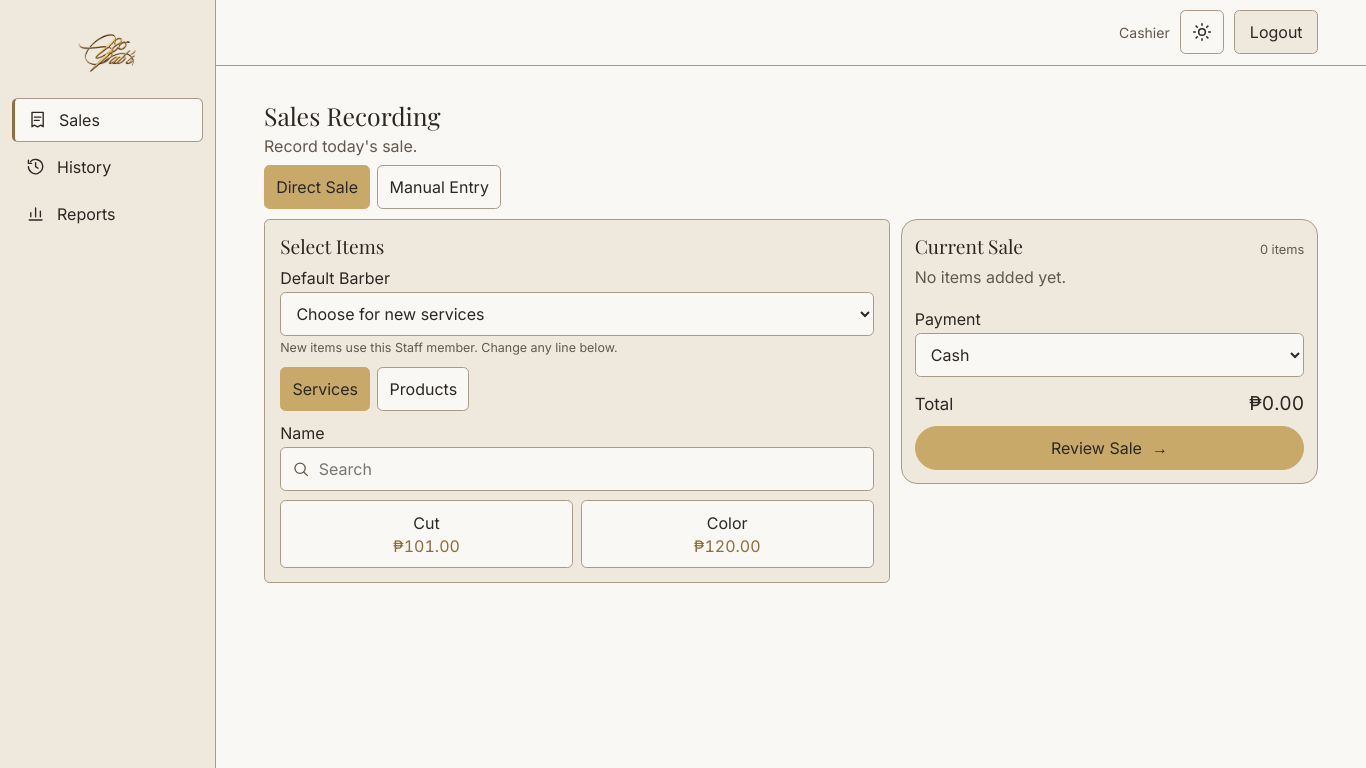
it: reserves Direct payload and key before POST, then requires physical-reference acknowledgment
Check: the heading "Sales Recording" is shown, box [264,99,440,132]
Check: the text "No items added yet." is shown, box [915,267,1066,287]
Click the button "Products" at (423, 389), box [377,367,469,411]
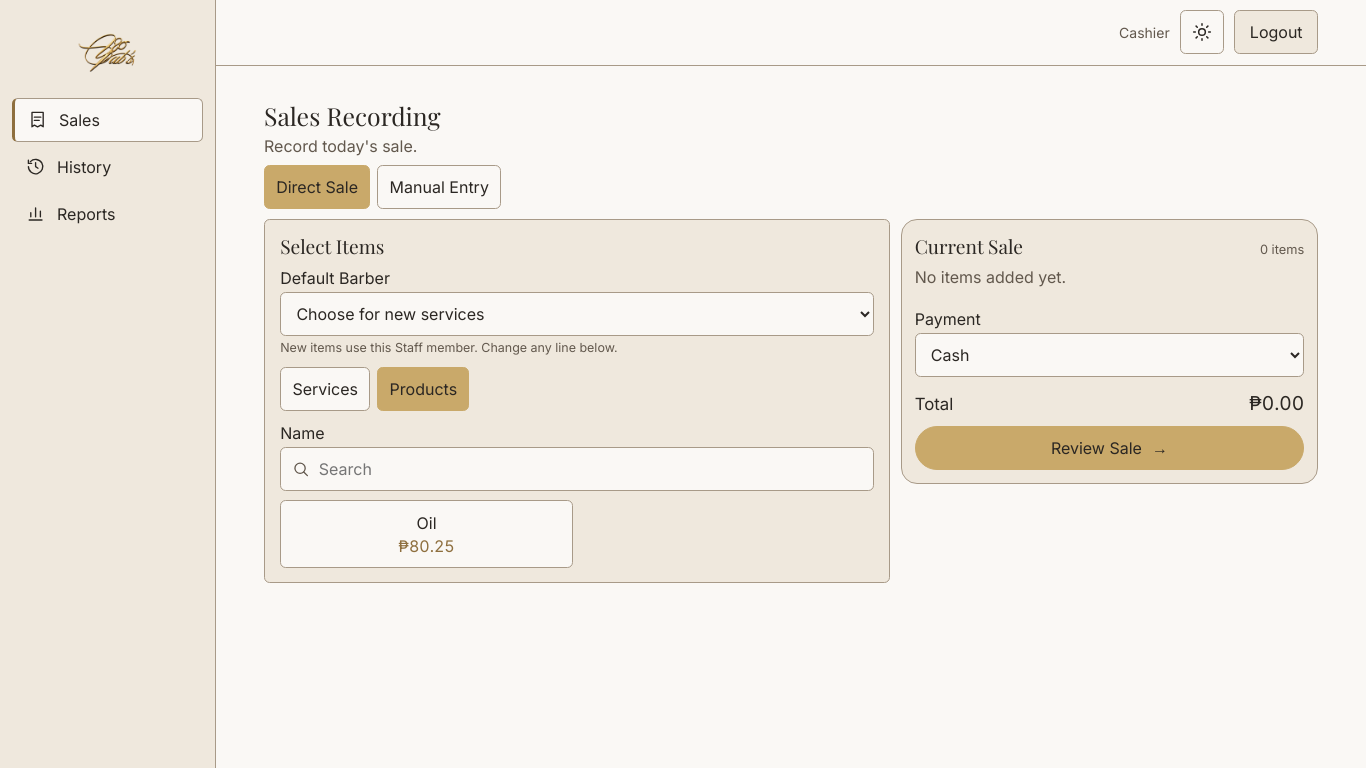
Click the button "Oil ₱80.25" at (427, 534), box [280,500,573,568]
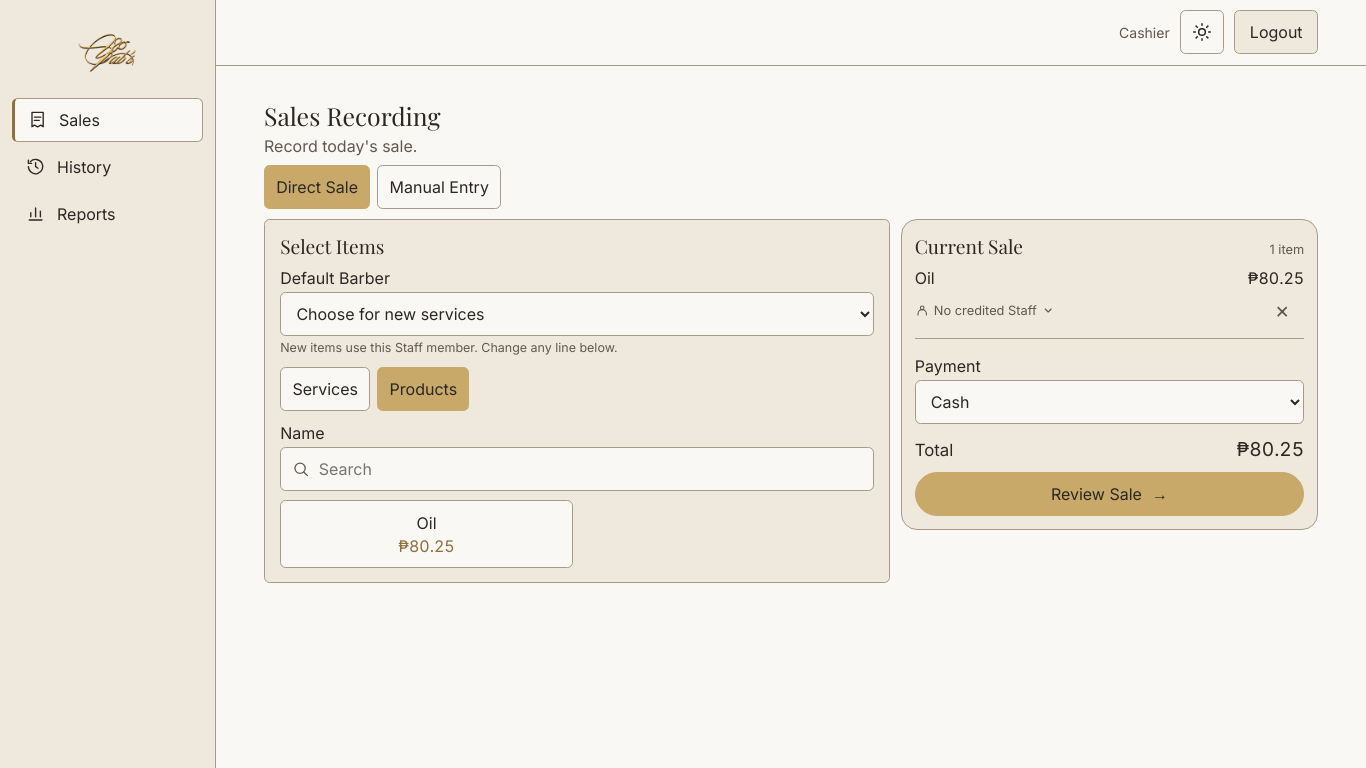
Click the button "Review Sale →" at (1109, 494), box [915,472,1304,516]
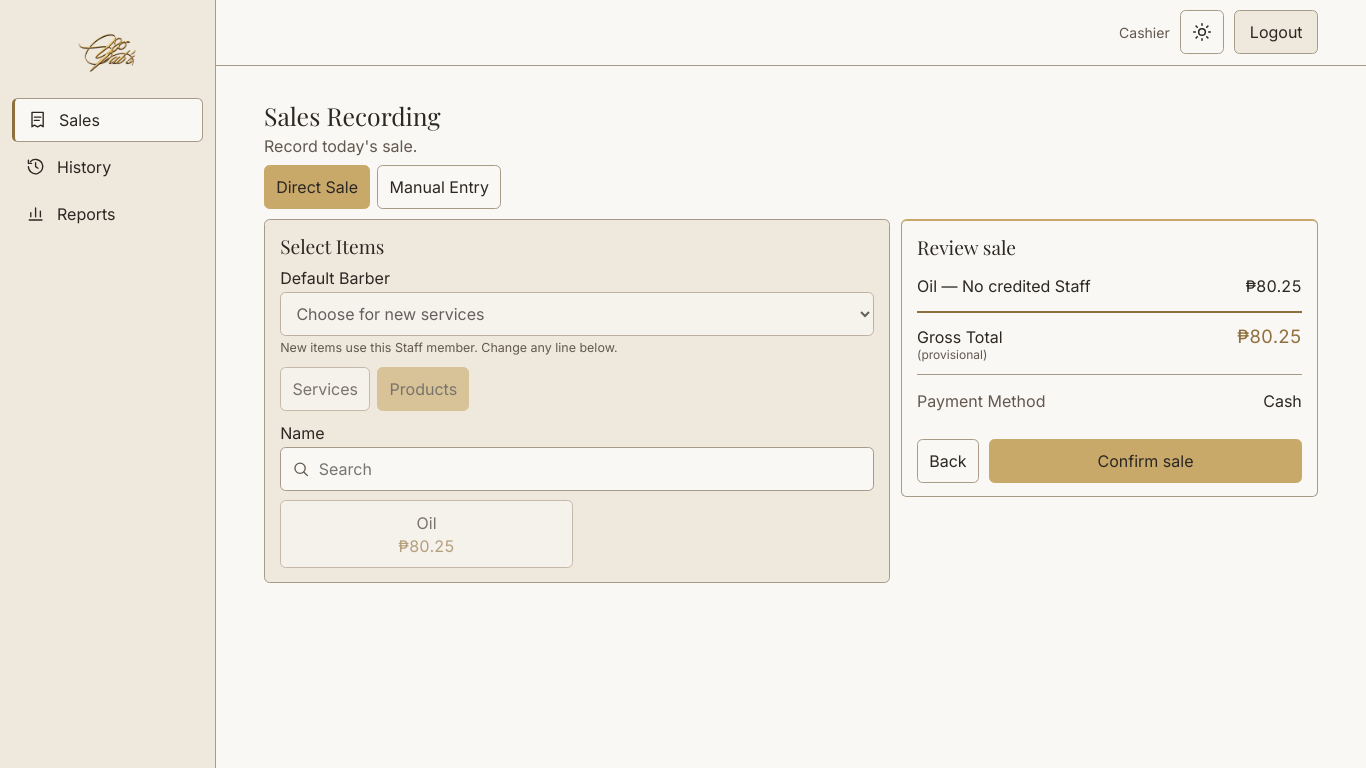
Click the button "Confirm sale" at (1146, 461), box [989,439,1302,483]
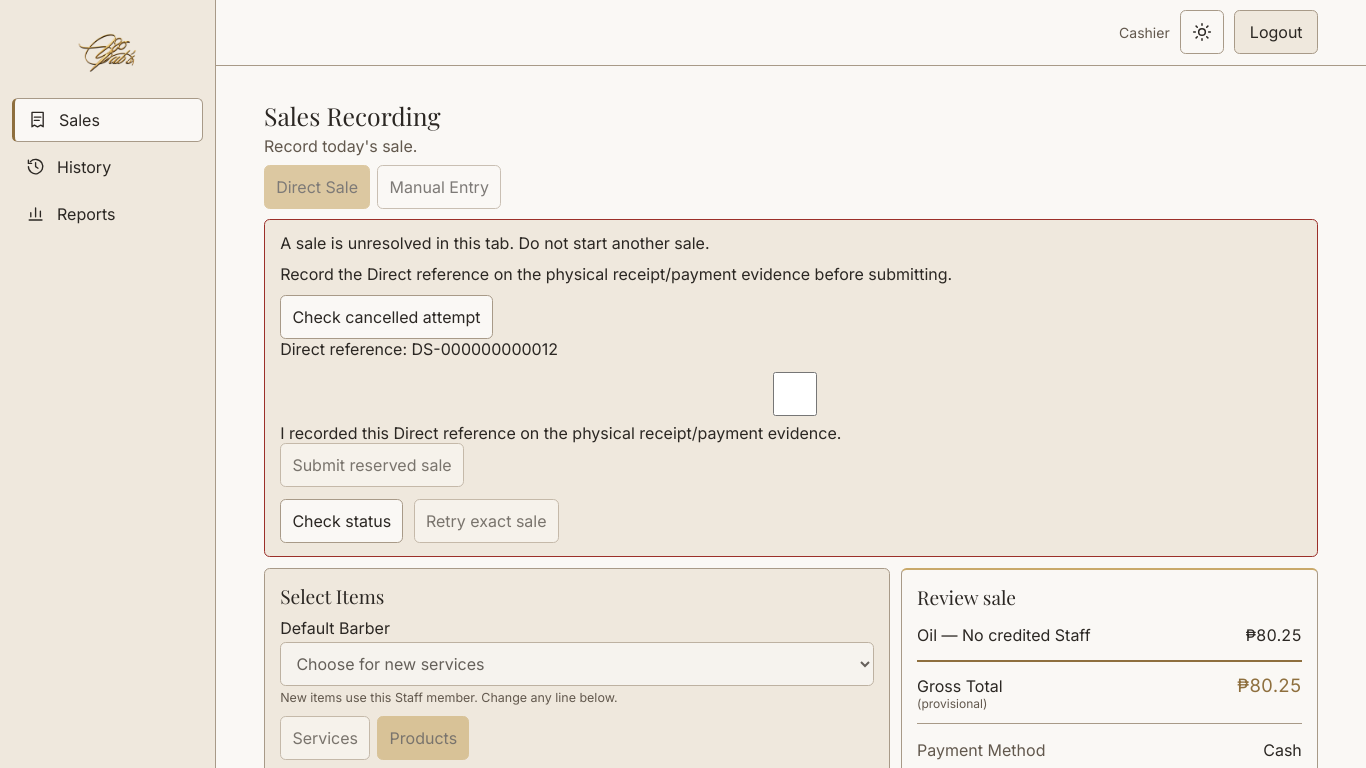
Check: the text "Direct reference: DS-000000000012" is shown, box [280,339,558,359]
Check: the button "Submit reserved sale" is disabled, box [280,443,464,487]
Click the checkbox labelled "I recorded this Direct reference" at (795, 394), box [284,372,1306,416]
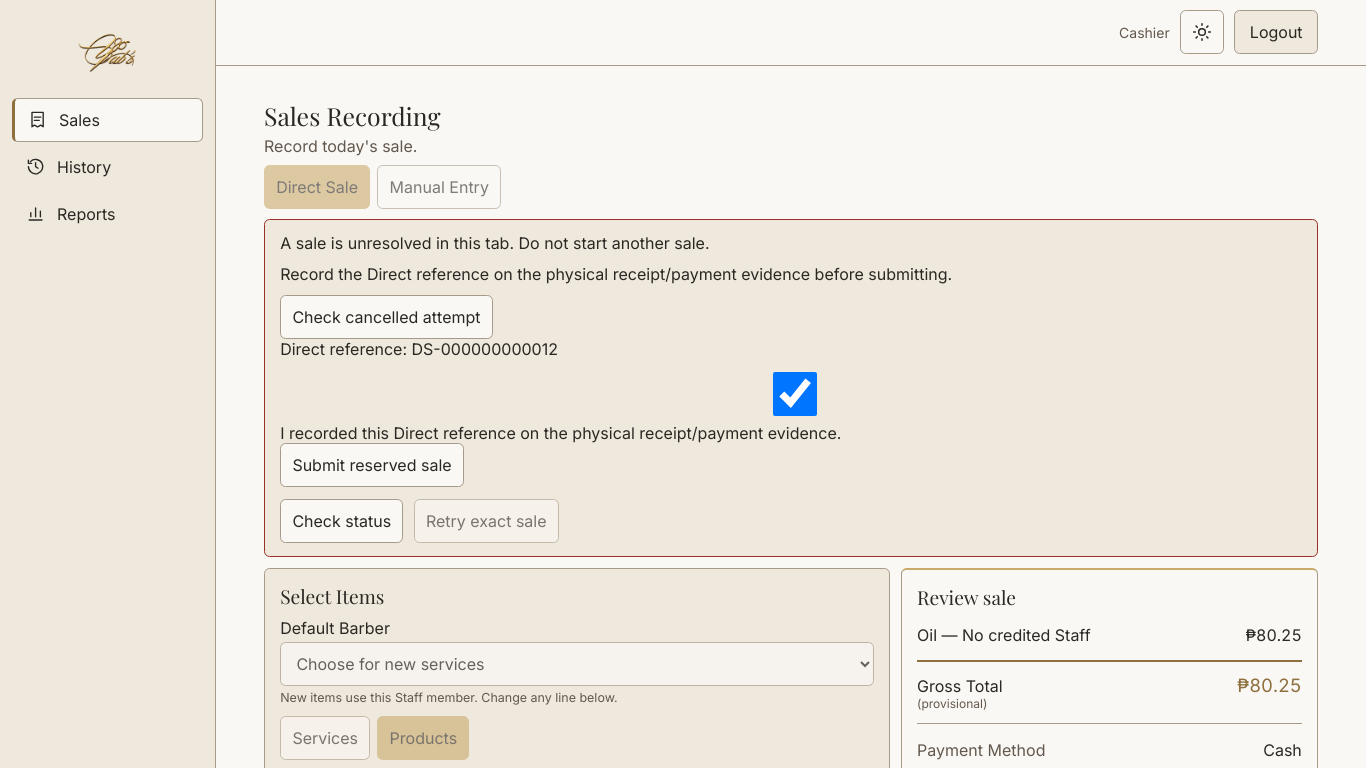
Click the button "Submit reserved sale" at (372, 465), box [280,443,464,487]
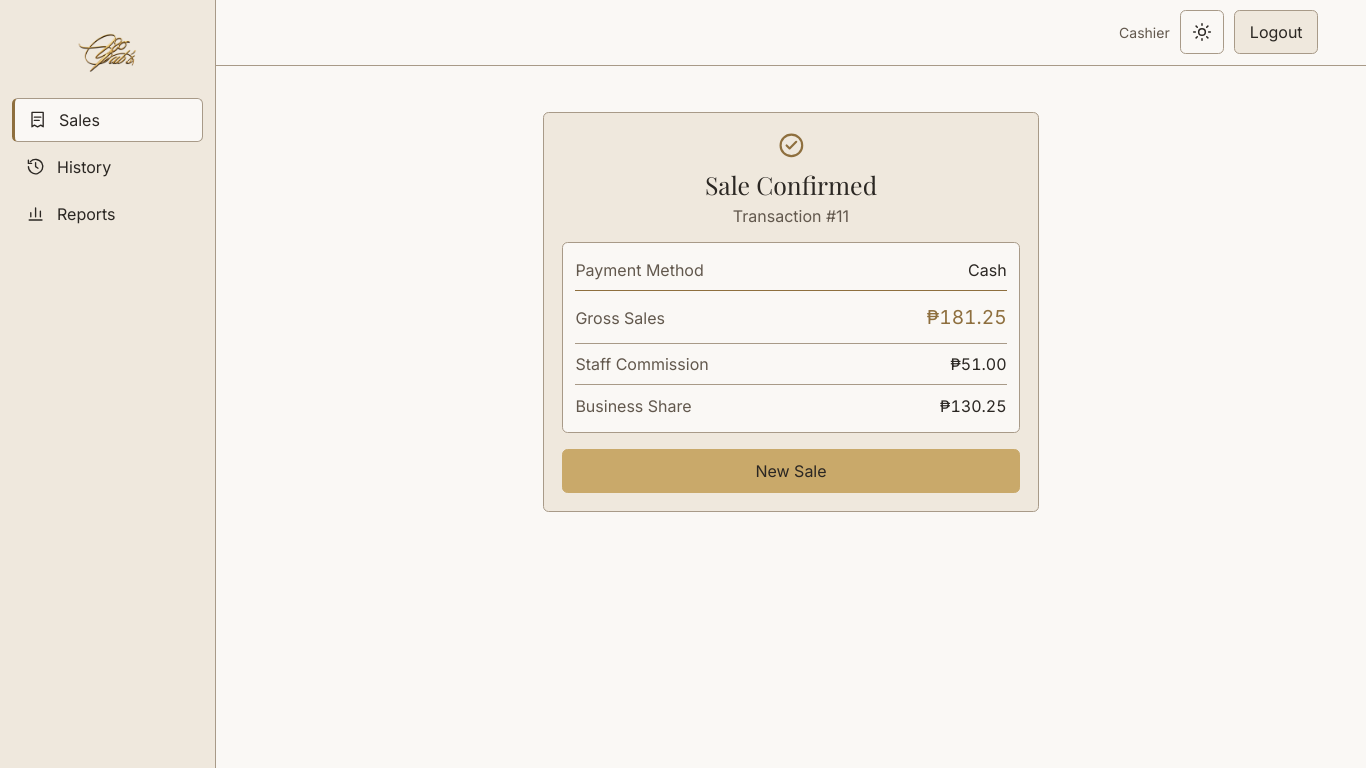
Check: the heading "Sale Confirmed" is shown, box [705,168,877,201]
